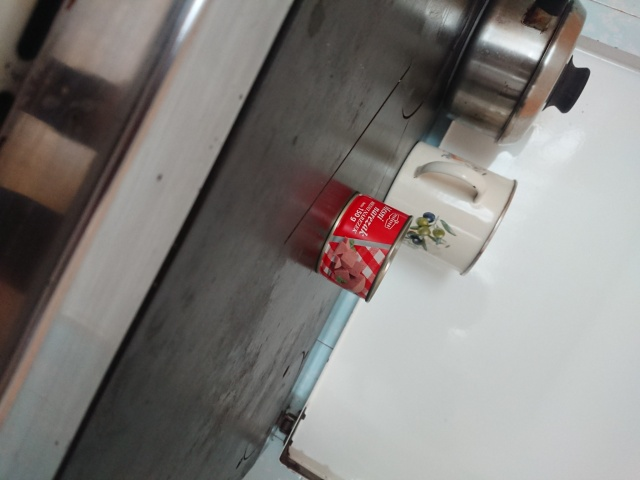Podravka Luncheon Meat 150g: (312, 190, 416, 305)
